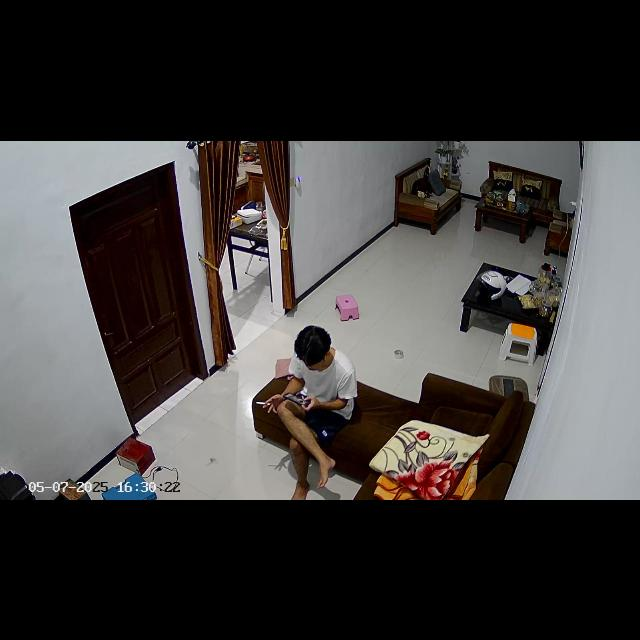rokok: (256, 399, 274, 408)
